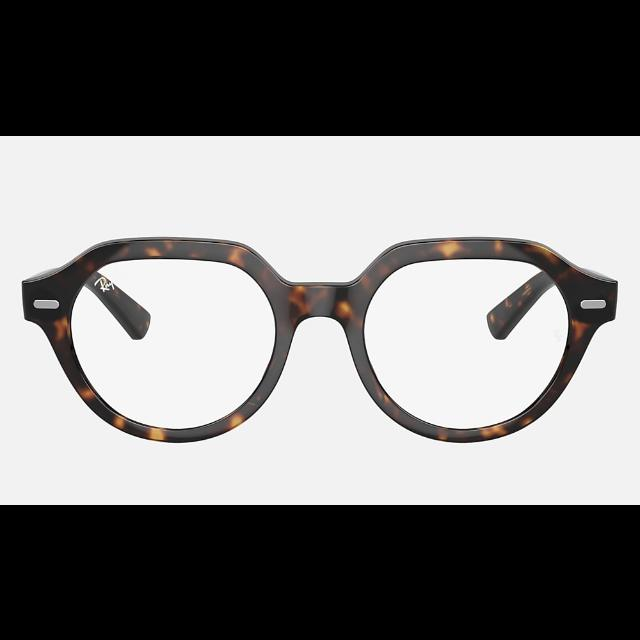glasses: (22, 234, 618, 442)
